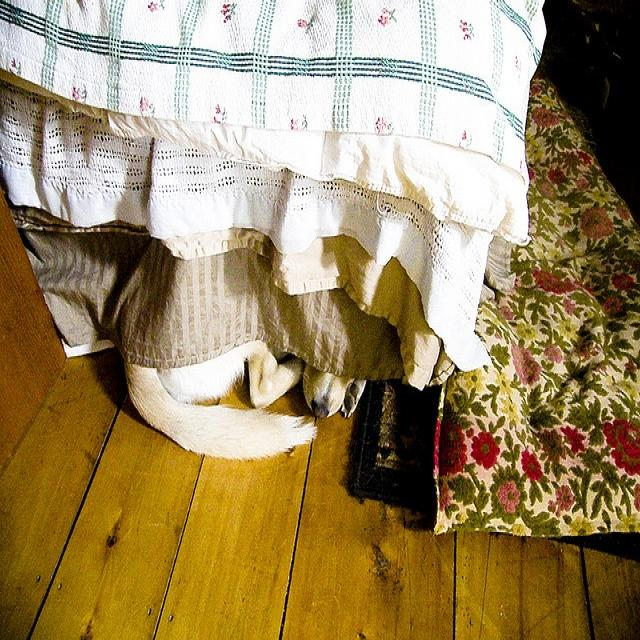dog: (125, 340, 366, 461)
